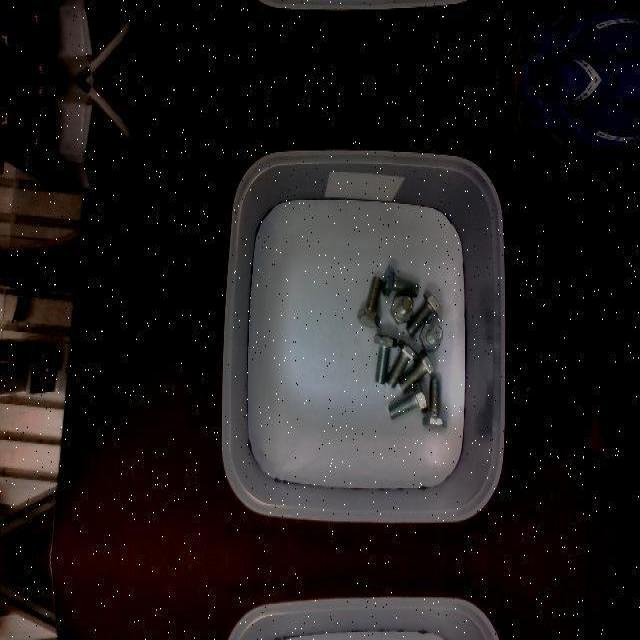screw: (405, 288, 443, 336), (388, 381, 429, 419), (387, 337, 418, 387), (399, 349, 435, 391), (422, 375, 447, 429), (357, 274, 381, 326), (381, 264, 419, 296), (373, 332, 397, 382), (391, 293, 414, 323), (420, 322, 443, 350)
